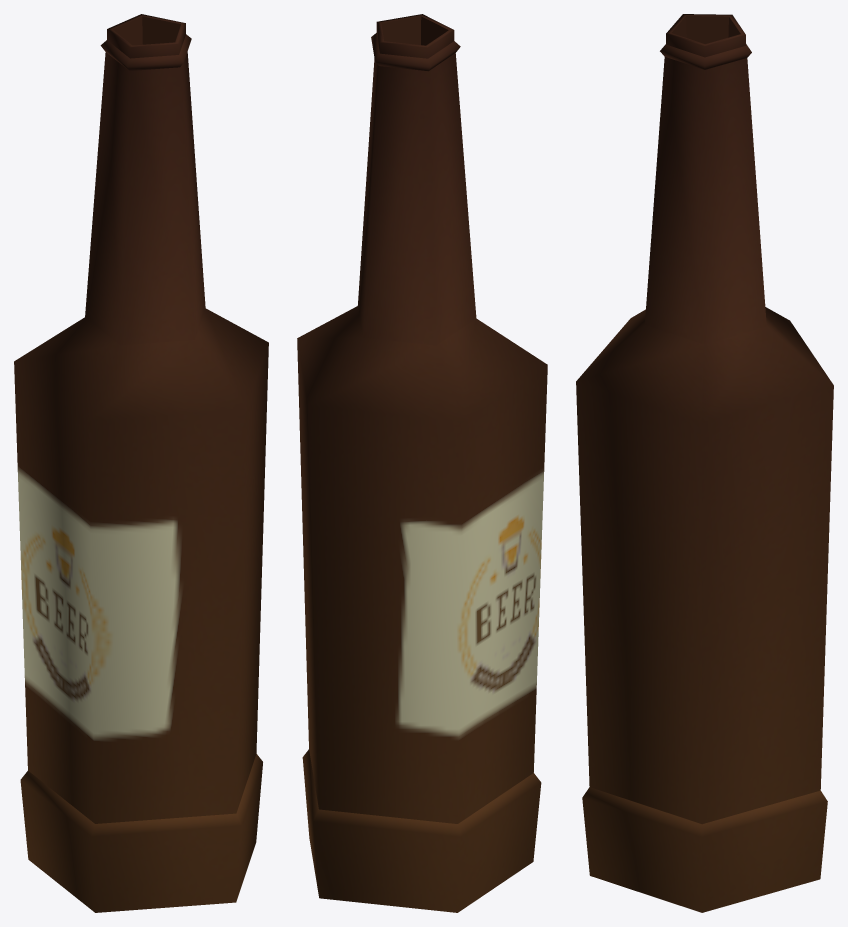
Rendered from Beer.fbx.
3 renders of one model, left to right at view 1: azimuth 30°, elevation 25°; view 2: azimuth 150°, elevation 25°; view 3: azimuth 270°, elevation 25°, orthographic.
Visible parts, largest first — view 1: Beer_Bottle; view 2: Beer_Bottle; view 3: Beer_Bottle.
Boxes of the visible parts, box(x1,y1,x2,y2) form: Beer_Bottle: box(14, 14, 268, 912); Beer_Bottle: box(297, 14, 547, 912); Beer_Bottle: box(576, 14, 833, 912).
Size of the model in its own units: 0.00363 by 0.0134 by 0.00377.
